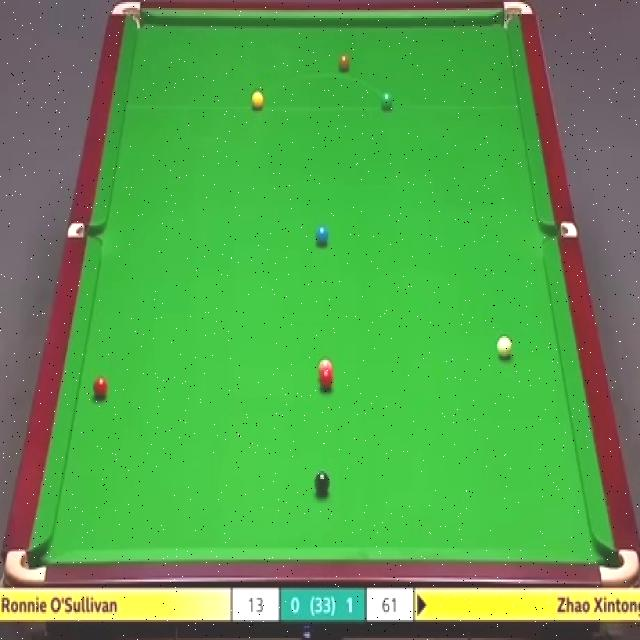black-ball: (314, 470, 330, 494)
blue-ball: (315, 224, 330, 244)
brown-ball: (338, 53, 350, 71)
green-ball: (379, 89, 393, 111)
pink-ball: (318, 356, 334, 374)
red-ball: (94, 376, 108, 398), (318, 372, 332, 389)
white-ball: (497, 333, 512, 360)
yellow-ball: (251, 91, 264, 111)
